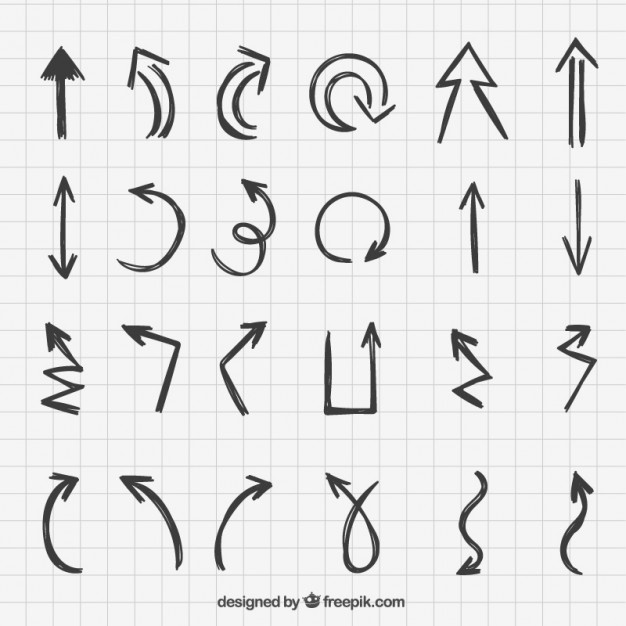arrow: (431, 35, 515, 155), (109, 468, 192, 578), (108, 178, 190, 287), (319, 467, 393, 582), (204, 174, 275, 286), (316, 313, 384, 428), (115, 316, 186, 424), (206, 471, 276, 577), (548, 33, 604, 160), (210, 315, 273, 427), (312, 183, 392, 271), (35, 468, 94, 584), (118, 41, 182, 147), (443, 466, 496, 589), (32, 318, 88, 432), (545, 316, 602, 424), (213, 40, 266, 147), (33, 41, 87, 146), (551, 466, 599, 584), (437, 328, 500, 414), (551, 173, 598, 285), (38, 171, 82, 285), (452, 172, 488, 282)
